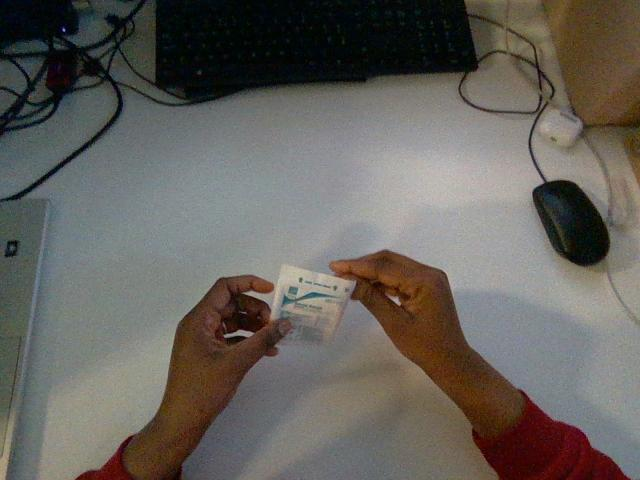gauze: (271, 264, 355, 343)
